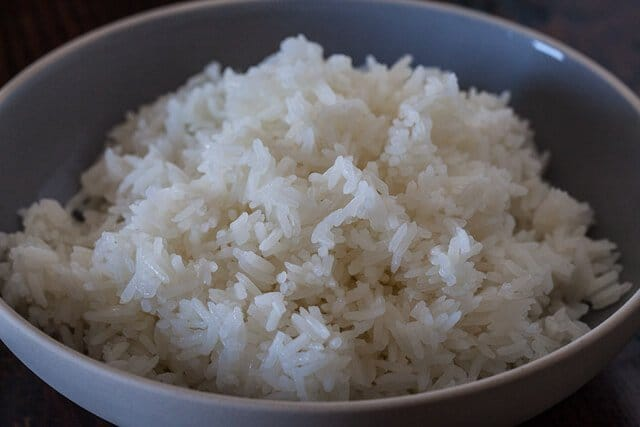rice: (38, 37, 592, 385)
